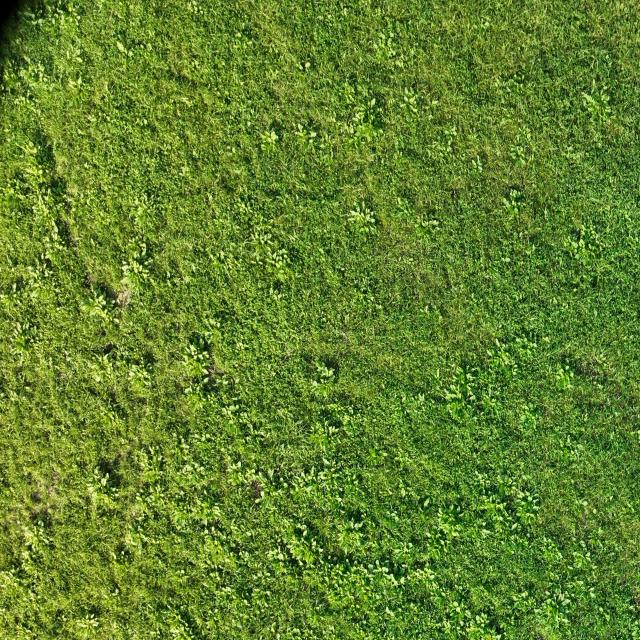rumex: (225, 454, 284, 511), (12, 268, 66, 317), (78, 281, 129, 331), (174, 456, 223, 506), (368, 14, 415, 64), (543, 354, 590, 404), (292, 464, 344, 506), (124, 184, 166, 236), (504, 122, 545, 174), (282, 524, 328, 570), (444, 366, 487, 415), (202, 524, 241, 578), (406, 201, 448, 247), (454, 605, 509, 640), (539, 586, 582, 629), (345, 198, 385, 244), (329, 396, 370, 440), (28, 183, 66, 230), (350, 97, 392, 138), (366, 562, 409, 602), (581, 82, 618, 128), (22, 139, 63, 179), (30, 233, 74, 269), (20, 519, 58, 560), (570, 225, 612, 262), (424, 125, 470, 158), (86, 466, 118, 511), (490, 336, 526, 376), (476, 488, 512, 528), (437, 504, 472, 543), (331, 562, 366, 600), (19, 56, 53, 95), (165, 603, 200, 640), (120, 251, 154, 289), (218, 395, 252, 433), (136, 445, 169, 484), (284, 50, 322, 83), (512, 476, 544, 514), (181, 333, 211, 372), (266, 244, 296, 282), (406, 386, 446, 414), (246, 218, 278, 252), (394, 85, 425, 120), (308, 359, 339, 394), (75, 605, 106, 640), (335, 518, 366, 552), (291, 118, 328, 146), (14, 314, 42, 351), (88, 352, 118, 385), (500, 184, 529, 218), (126, 364, 156, 393), (572, 548, 598, 580), (260, 124, 289, 151), (470, 155, 494, 182), (116, 37, 138, 62)
